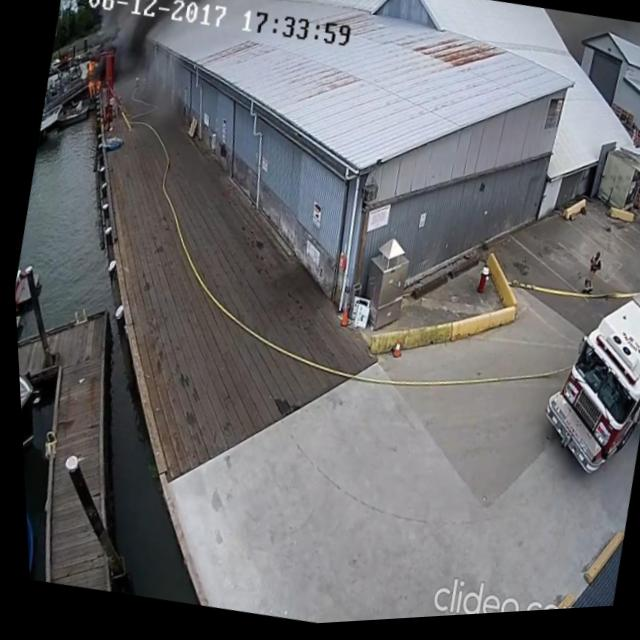fire: (78, 55, 107, 101)
